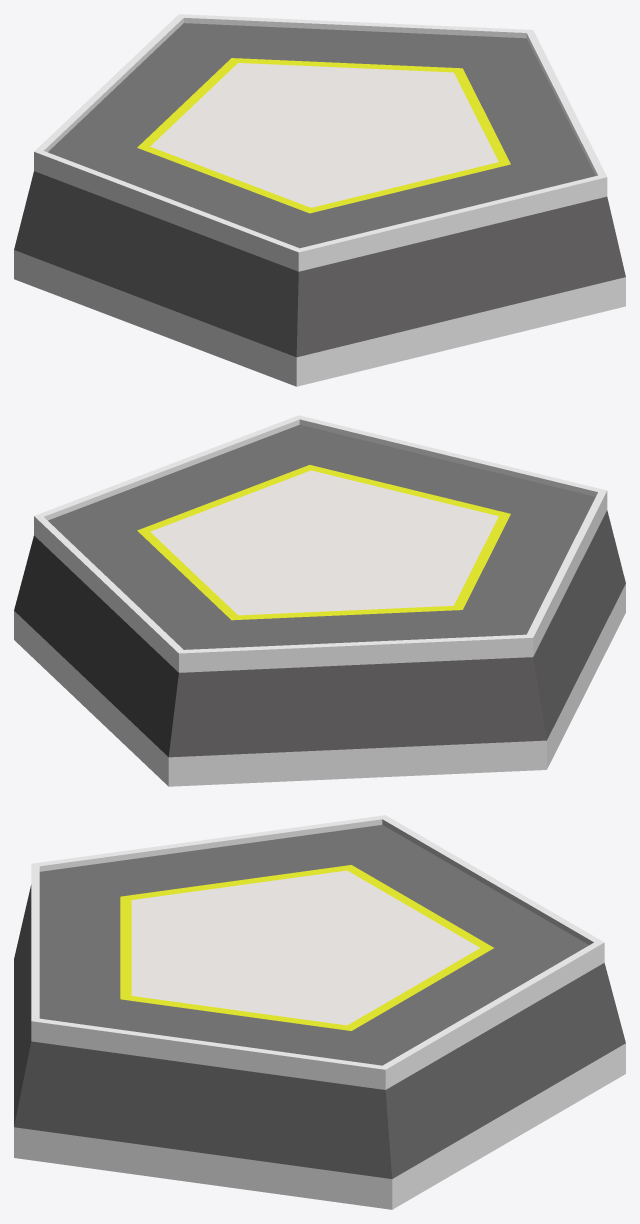
File: roketplatform (1).fbx
3 renders of one model, top to bottom at view 1: azimuth 30°, elevation 25°; view 2: azimuth 150°, elevation 25°; view 3: azimuth 270°, elevation 25°, orthographic. The views are drawn at different scales.
Visible parts, largest first — view 1: Cylinder, Cylinder.001, Cylinder.003; view 2: Cylinder, Cylinder.001, Cylinder.003; view 3: Cylinder, Cylinder.001, Cylinder.003.
Boxes of the visible parts, x1,y1,x2,y2 form: Cylinder: (14, 14, 625, 386); Cylinder.001: (150, 63, 498, 207); Cylinder.003: (137, 58, 510, 213); Cylinder: (14, 415, 625, 786); Cylinder.001: (150, 470, 498, 615); Cylinder.003: (137, 465, 510, 620); Cylinder: (14, 815, 625, 1209); Cylinder.001: (131, 870, 479, 1025); Cylinder.003: (120, 865, 493, 1030).
Bounding box in the file's own units: 203 × 45.77 × 193.
